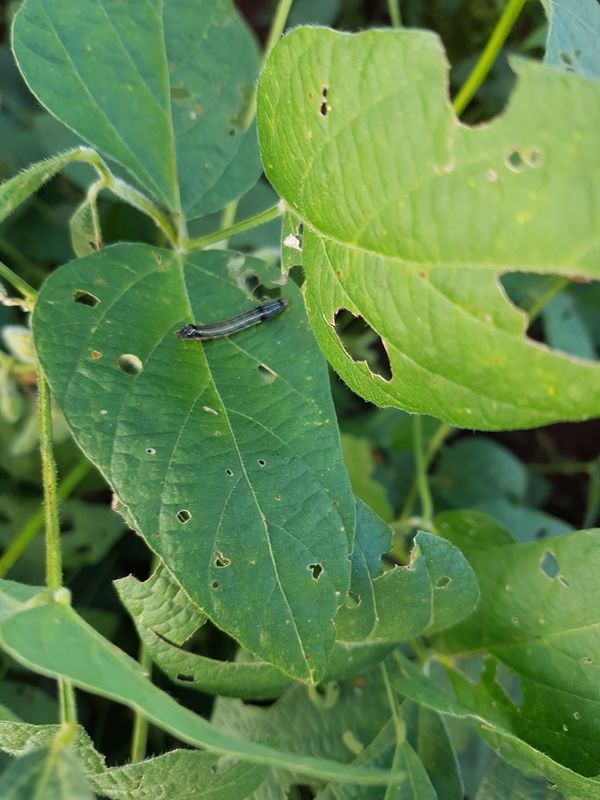Spodoptera_albula: (169, 285, 292, 361)
